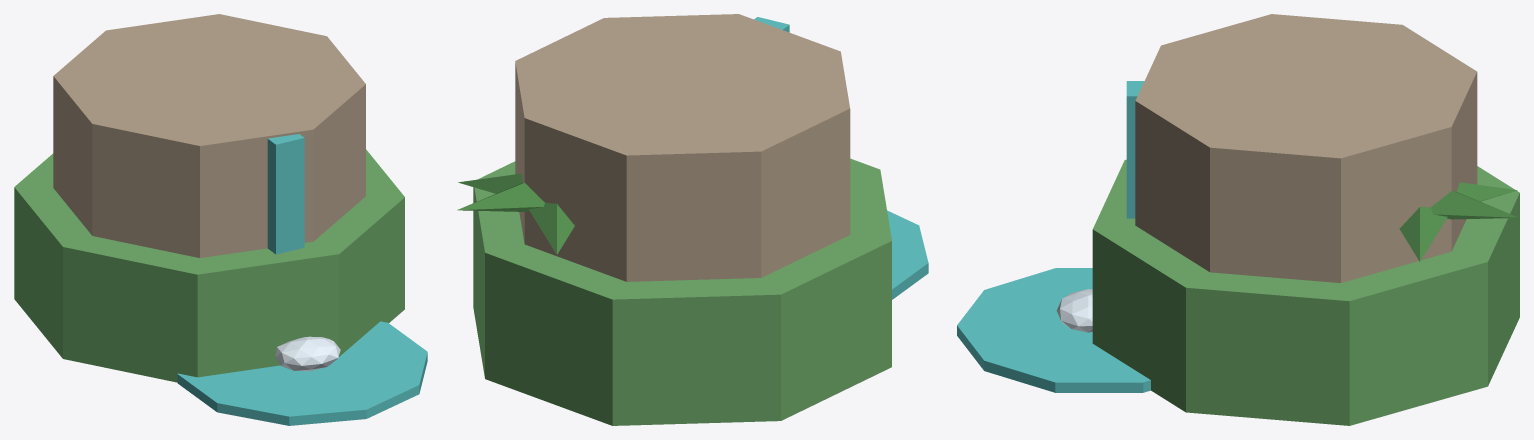
Rendered from jungle-g1.glb.
3 renders of one model, left to right at view 1: azimuth 30°, elevation 25°; view 2: azimuth 150°, elevation 25°; view 3: azimuth 270°, elevation 25°, orthographic. The views are drawn at different scales.
Visible parts, largest first — view 1: jungle-g1; view 2: jungle-g1; view 3: jungle-g1.
Part boxes in pixels (x1,y1,x2,y2): jungle-g1: (14, 14, 427, 425); jungle-g1: (457, 14, 928, 425); jungle-g1: (957, 14, 1519, 425).
Size of the model in its own units: 1.86 by 1.2 by 2.45.
